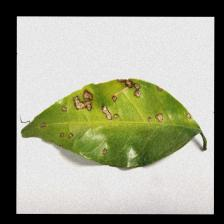canker: (37, 67, 193, 153)
